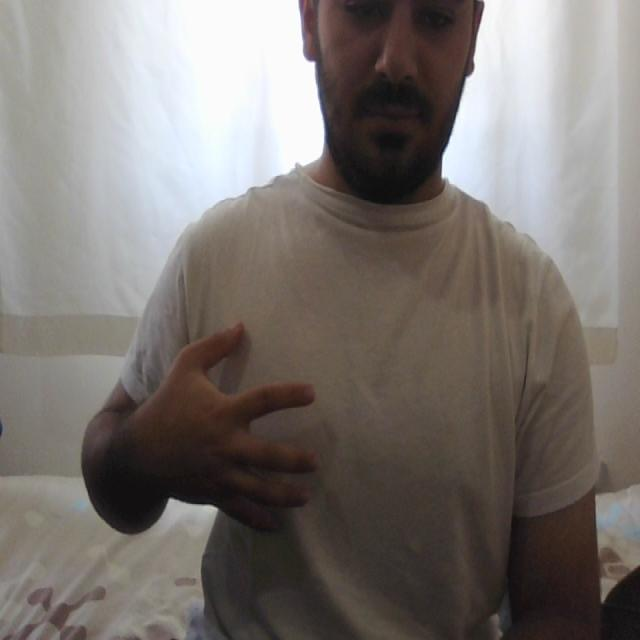Anne: (143, 304, 547, 549)
